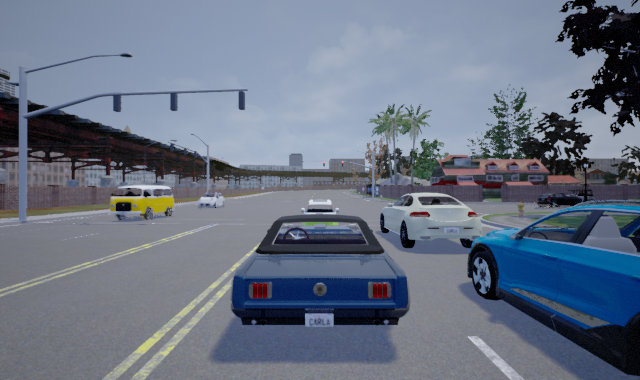pedestrian: (515, 198, 526, 220)
vehicle: (467, 198, 639, 379), (230, 213, 410, 327), (378, 192, 485, 249), (103, 184, 175, 221), (297, 198, 342, 241), (197, 192, 225, 209)
